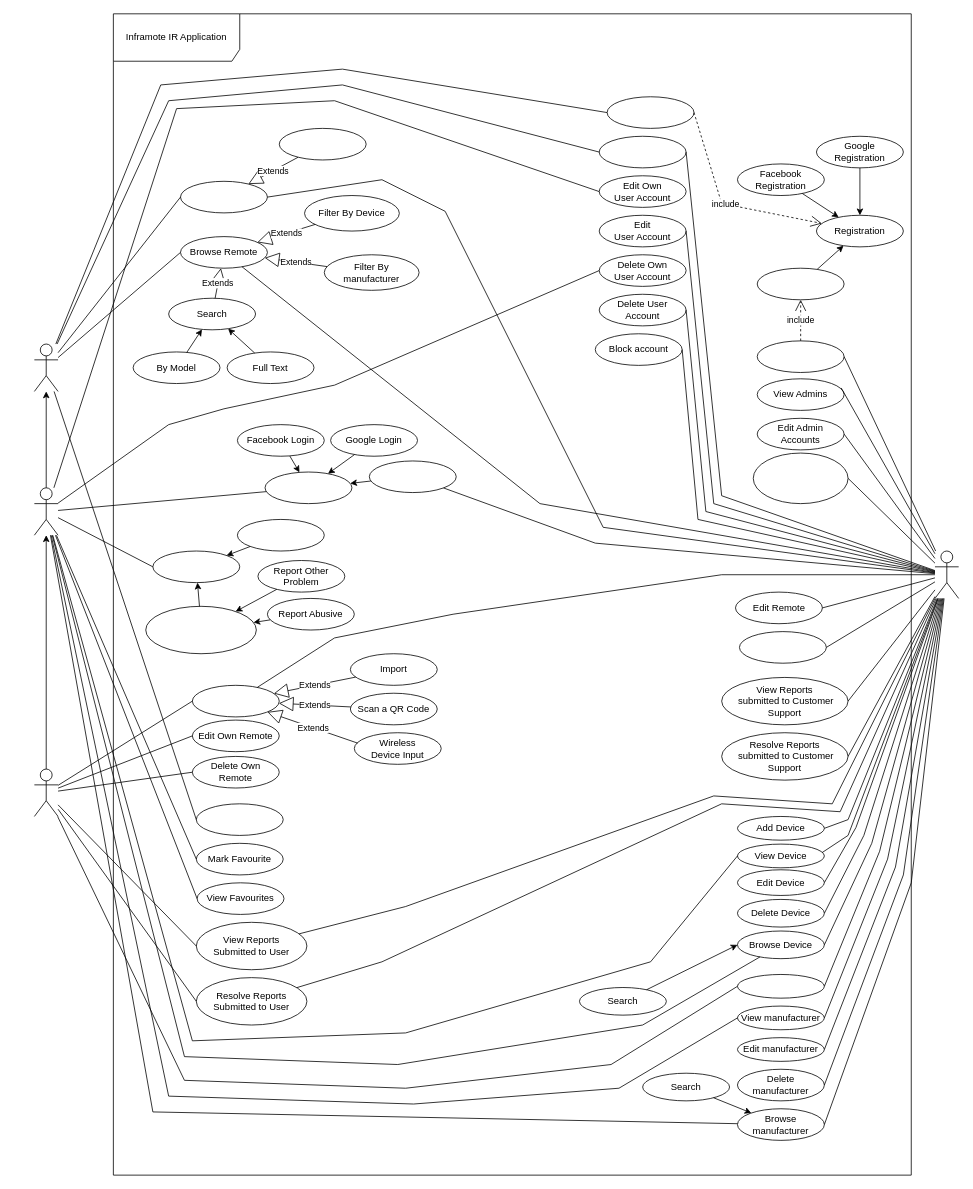
The diagram is 973 pixels wide and 1189 high, and some of its shapes have lost their labels. The centre of each missing label's shape, as x and y in pixels:
Account Holder: point (46, 511)
Add manufacturer: point (780, 986)
Add New Remote: point (235, 701)
Admin: point (946, 574)
Consumer: point (46, 367)
Contributor: point (46, 792)
Create Admin Account: point (800, 356)
Create User Account: point (650, 112)
Delete Other's Admin Account: point (800, 478)
Delete Remote: point (782, 647)
Download Remote: point (239, 819)
Email Login: point (412, 476)
Email Registration: point (800, 283)
Login: point (308, 487)
Report Issue: point (196, 566)
Report to Customer Support: point (200, 630)
Report to User: point (280, 535)
Use Remote: point (322, 144)
View Remote: point (223, 197)
View User: point (642, 151)
